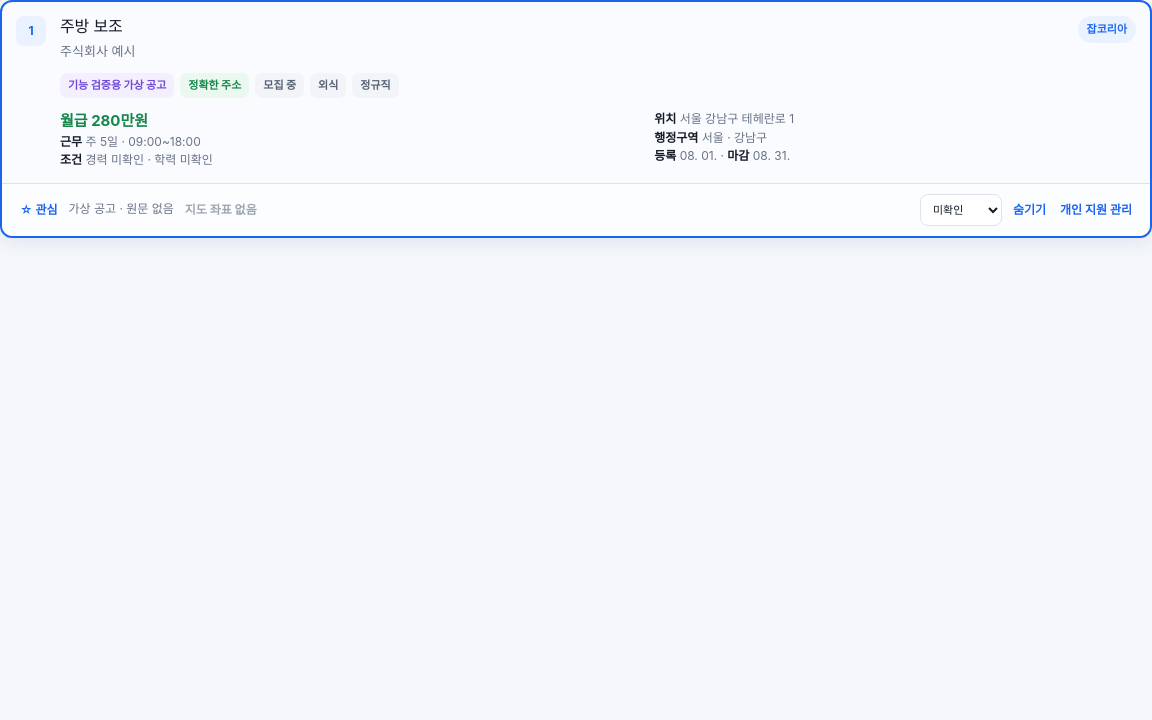
Test: 공고 카드 › 선택된 첫 카드도 개인 지원 관리를 명시적으로 열기 전에는 접어 둔다
The width and height of the screenshot is (1152, 720).
Click the button "개인 지원 관리".
click(1096, 210)  # box [1057,196,1135,224]
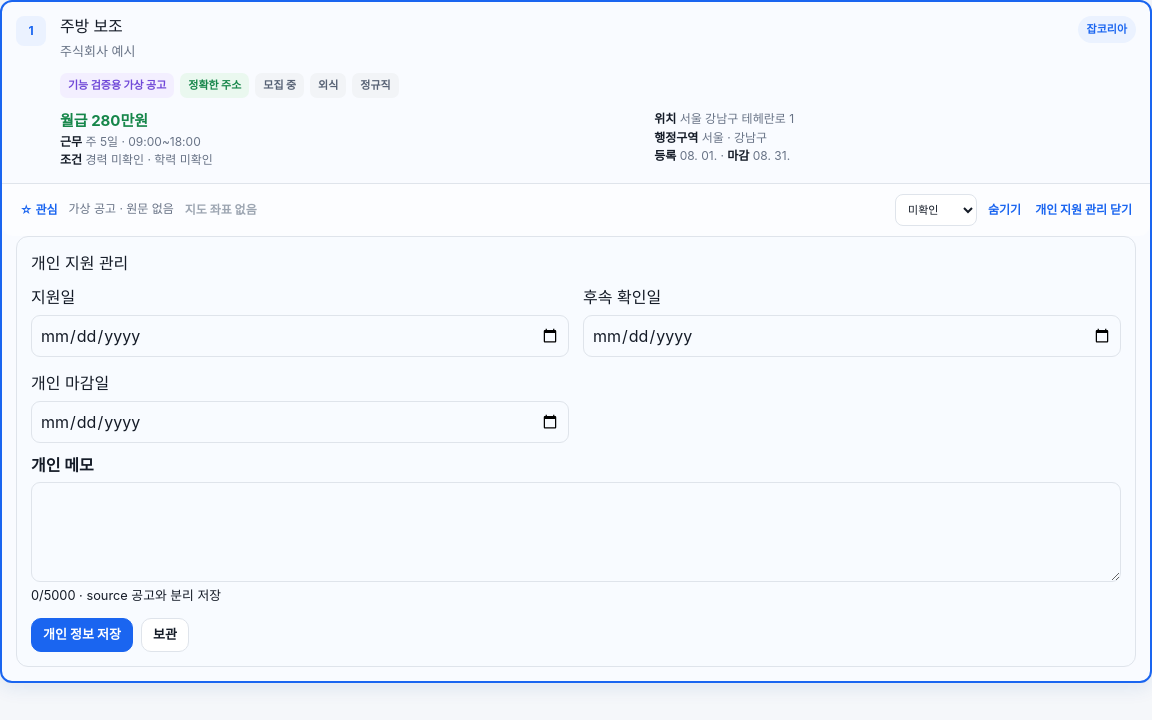
expect the element "개인 지원 관리" is shown: met, box [16,236,1136,667]
